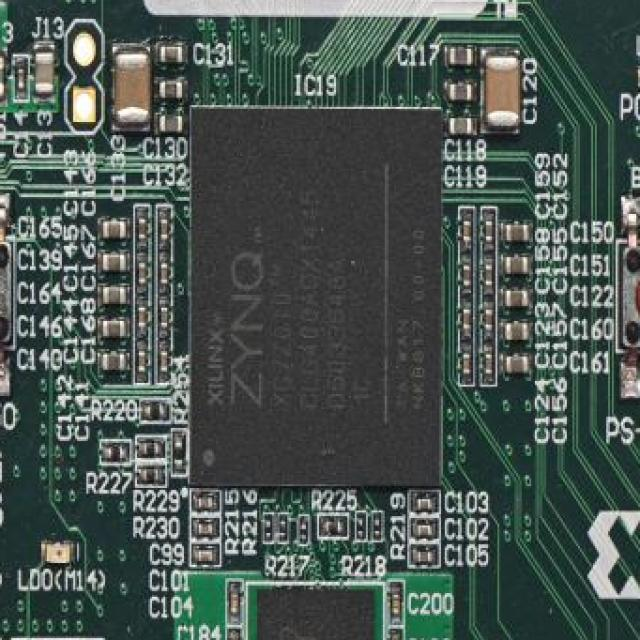IC: (190, 105, 442, 490), (256, 587, 376, 640)
capacitor: (484, 52, 524, 132), (113, 48, 154, 126), (34, 48, 56, 98), (448, 114, 475, 139), (158, 43, 185, 67), (448, 45, 475, 69), (448, 81, 475, 105), (158, 113, 185, 136), (158, 79, 185, 102), (101, 285, 128, 308), (101, 317, 128, 340), (505, 287, 531, 310), (505, 253, 531, 276), (505, 221, 531, 244), (101, 351, 128, 373), (101, 252, 128, 274), (101, 220, 128, 242), (505, 355, 531, 377), (505, 321, 531, 343), (197, 548, 215, 564), (197, 496, 215, 512), (197, 522, 215, 538), (416, 548, 434, 564), (416, 498, 434, 514), (414, 522, 432, 538), (484, 351, 495, 377), (484, 308, 495, 334), (484, 263, 495, 289), (484, 218, 495, 244), (159, 349, 170, 375), (159, 306, 170, 332), (159, 261, 170, 287), (159, 218, 170, 244), (390, 592, 401, 618), (137, 347, 147, 374), (462, 351, 472, 377), (15, 66, 25, 92), (462, 308, 472, 334), (462, 263, 472, 289), (462, 218, 472, 244), (137, 304, 147, 330), (137, 259, 147, 285), (137, 216, 147, 242), (229, 590, 239, 616), (390, 636, 400, 640), (229, 636, 238, 640)
diode: (45, 540, 73, 566)
resistor: (146, 402, 167, 421), (105, 443, 126, 462), (325, 518, 345, 537), (141, 439, 161, 458), (141, 466, 161, 484), (173, 439, 185, 468), (373, 518, 381, 537), (300, 522, 308, 540), (357, 518, 364, 537), (265, 522, 272, 540), (280, 522, 287, 540)
